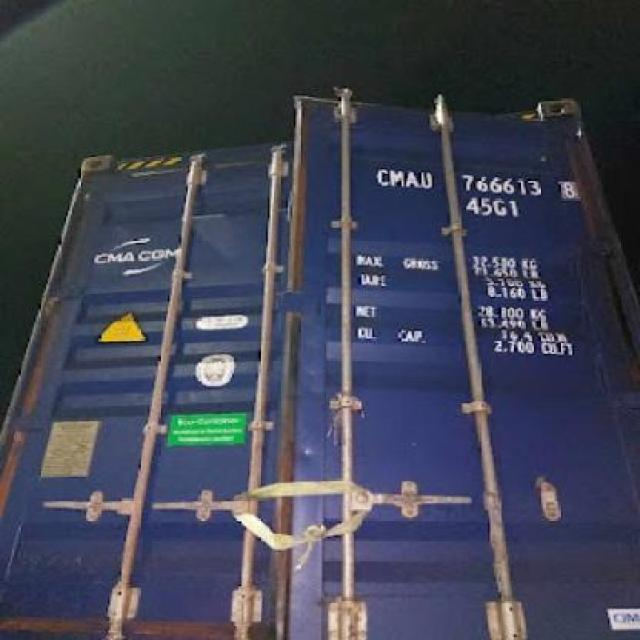ISO: (467, 197, 522, 220)
container_number: (380, 170, 570, 196)
